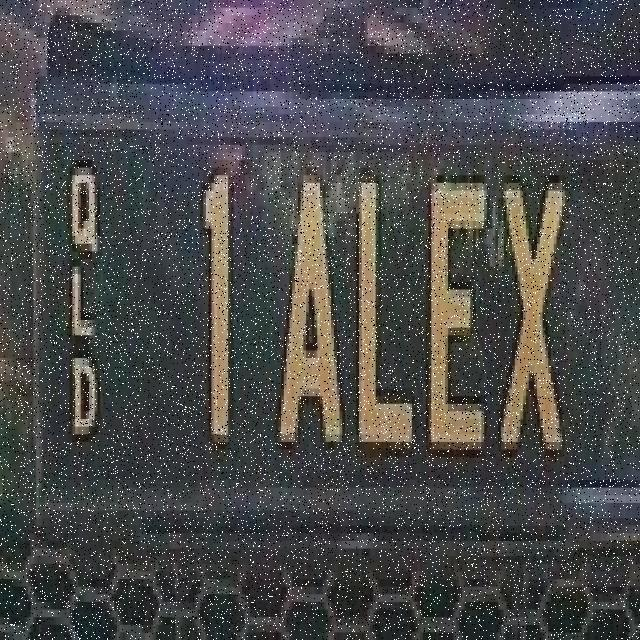licenseplate: (14, 31, 640, 610)
